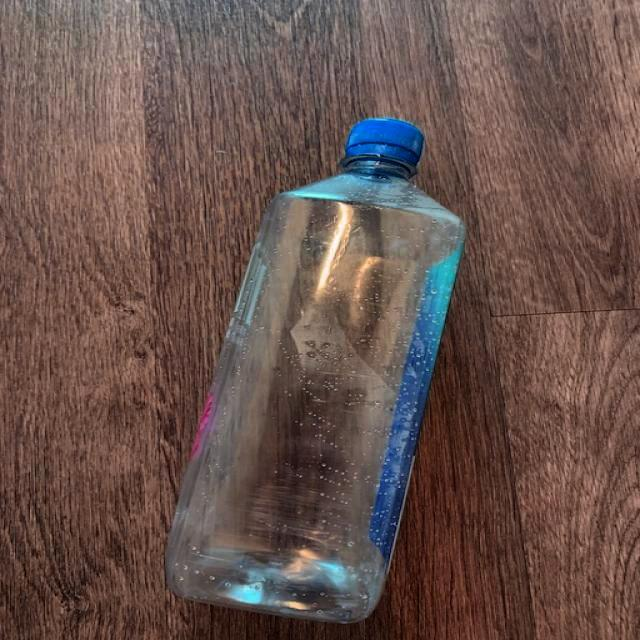bottle: (165, 117, 468, 622)
